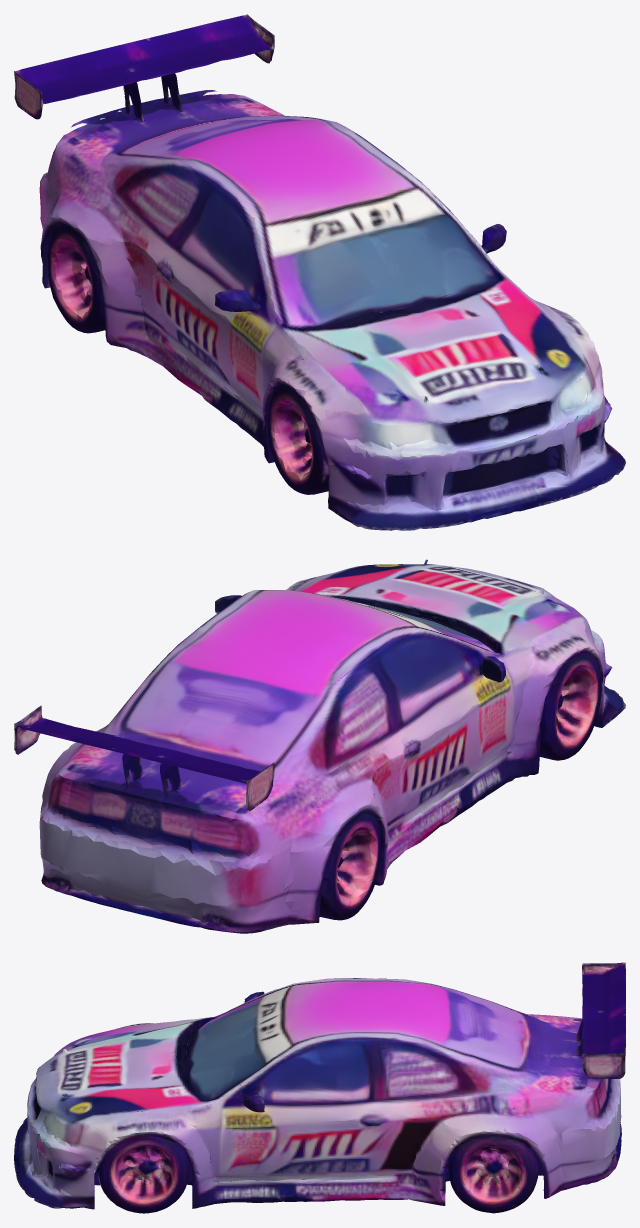
The model's file is supergt1.glb.
3 views of the same model, one above another, from view 1: azimuth 30°, elevation 25°; view 2: azimuth 150°, elevation 25°; view 3: azimuth 270°, elevation 25° (orthographic). The views are drawn at different scales.
Parts seen in each view (by area): view 1: body, wheel_front_L, wheel_rear_L, wheel_front_R; view 2: body, wheel_rear_L, wheel_front_L; view 3: body, wheel_front_R, wheel_rear_R.
Boxes of the visible parts, x1,y1,x2,y2 form: body: (14,14,625,529); wheel_front_L: (205,387,453,530); wheel_rear_L: (40,217,201,395); wheel_front_R: (519,337,625,492); body: (14,559,625,933); wheel_rear_L: (200,780,446,933); wheel_front_L: (448,618,625,822); body: (14,962,625,1207); wheel_front_R: (19,1121,316,1213); wheel_rear_R: (308,1131,617,1213).
Bounding box in the file's own units: 1.72 × 1.13 × 4.
Materials: 1 (1 with a texture image).
